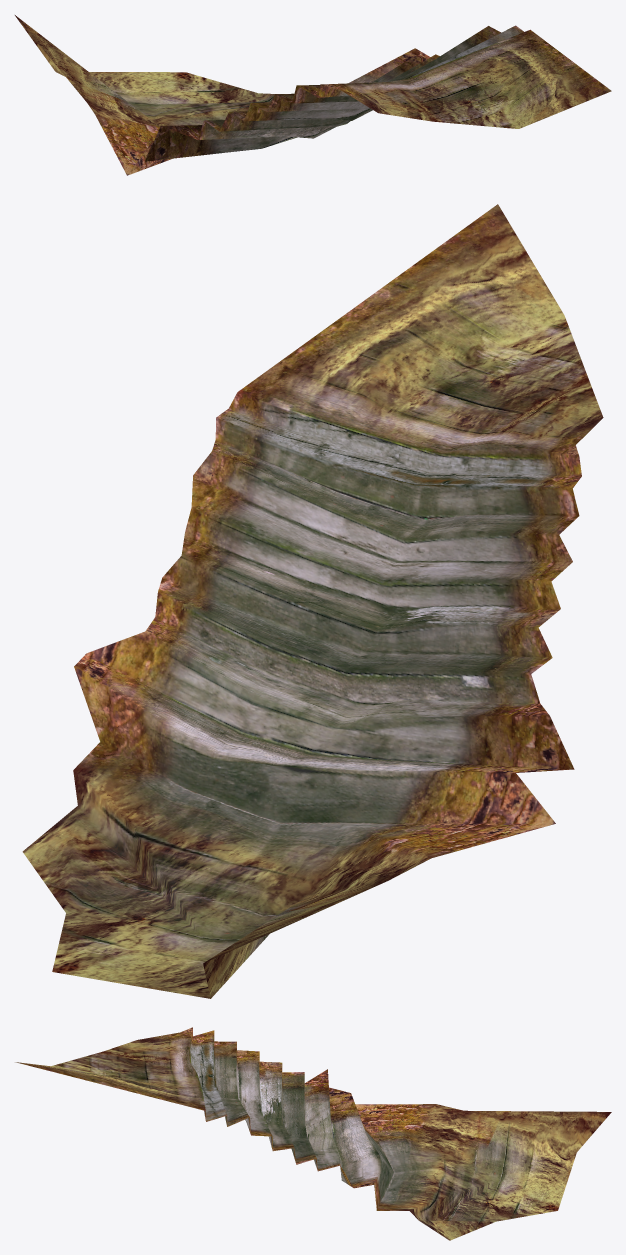
Rendered from tunnels_stairs_midRamp02.fbx.
The picture shows the model from 3 angles, top to bottom: view 1: azimuth 30°, elevation 25°; view 2: azimuth 150°, elevation 25°; view 3: azimuth 270°, elevation 25°; orthographic projection. The views are drawn at different scales.
Parts seen in each view (by area): view 1: tunnel_stairs_midRamp01; view 2: tunnel_stairs_midRamp01; view 3: tunnel_stairs_midRamp01.
Boxes of the visible parts, box(x1,y1,x2,y2) form: tunnel_stairs_midRamp01: box(15, 15, 611, 175); tunnel_stairs_midRamp01: box(22, 204, 603, 998); tunnel_stairs_midRamp01: box(15, 1027, 611, 1240).
Size of the model in its own units: 261 by 183 by 574.
